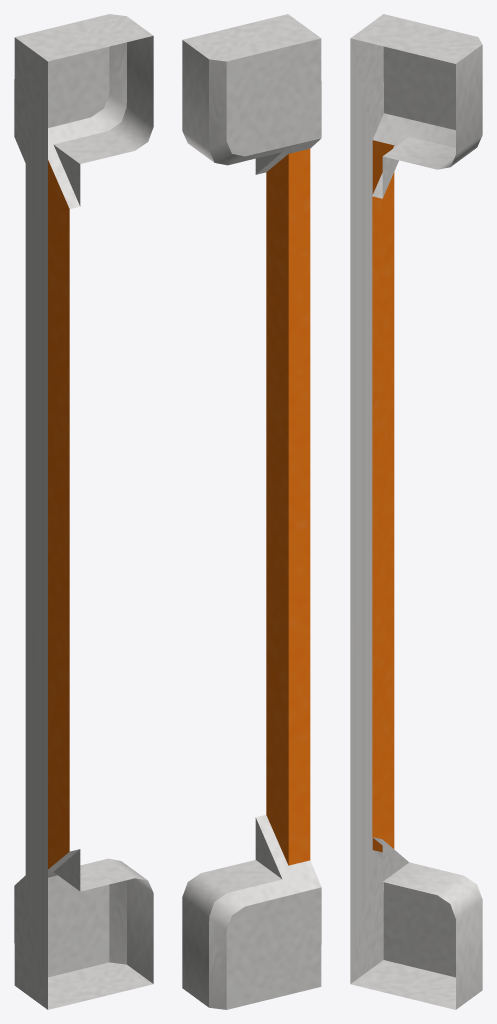
Rendered from WallDec_1_R_LOD0.fbx.
3 views of the same model, side by side, from view 1: azimuth 30°, elevation 25°; view 2: azimuth 210°, elevation 25°; view 3: azimuth 330°, elevation 25° (orthographic).
Parts seen in each view (by area): view 1: WallDec_1_R_LOD0; view 2: WallDec_1_R_LOD0; view 3: WallDec_1_R_LOD0.
Boxes of the visible parts, left/top/right/bottom form: WallDec_1_R_LOD0: left=14, top=14, right=153, bottom=1009; WallDec_1_R_LOD0: left=182, top=14, right=321, bottom=1009; WallDec_1_R_LOD0: left=350, top=14, right=482, bottom=1009.
Size of the model in its own units: 23.33 by 200 by 12.86.
